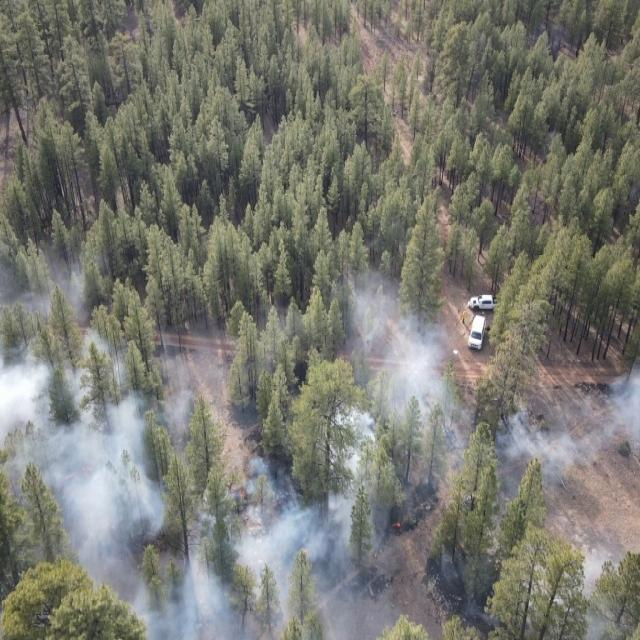fire: (218, 475, 290, 535), (56, 445, 112, 495), (366, 502, 429, 546)
smoke: (218, 397, 405, 640), (1, 445, 222, 640), (0, 246, 200, 444), (338, 260, 480, 444), (501, 358, 640, 493), (496, 531, 624, 640)
